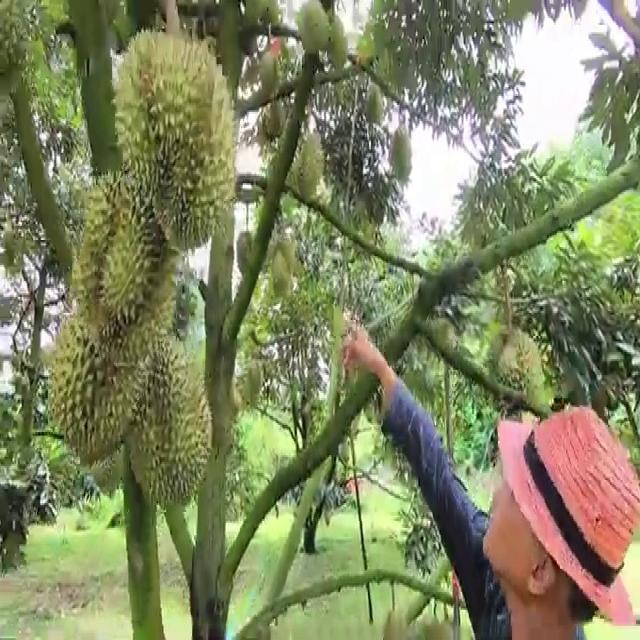durian: (109, 30, 244, 254), (45, 277, 162, 466), (60, 164, 174, 345), (114, 329, 218, 513), (480, 314, 549, 421), (289, 124, 328, 207), (387, 119, 417, 192), (318, 4, 349, 74), (294, 1, 333, 55), (234, 222, 259, 282), (255, 44, 283, 90)
